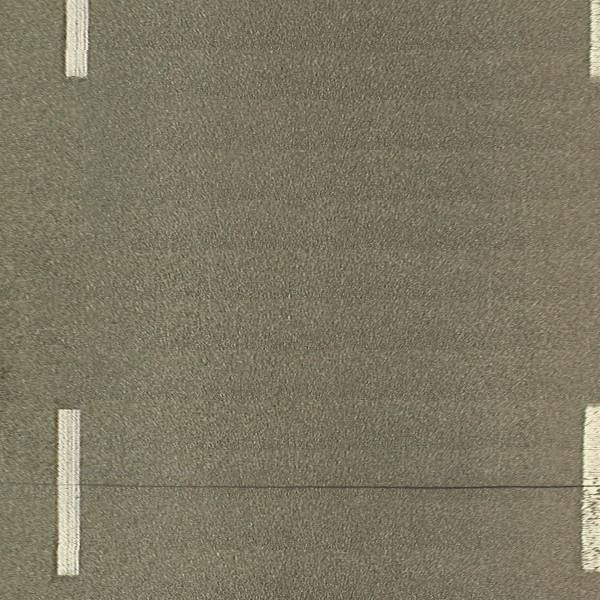road_damage: (85, 480, 575, 494)
